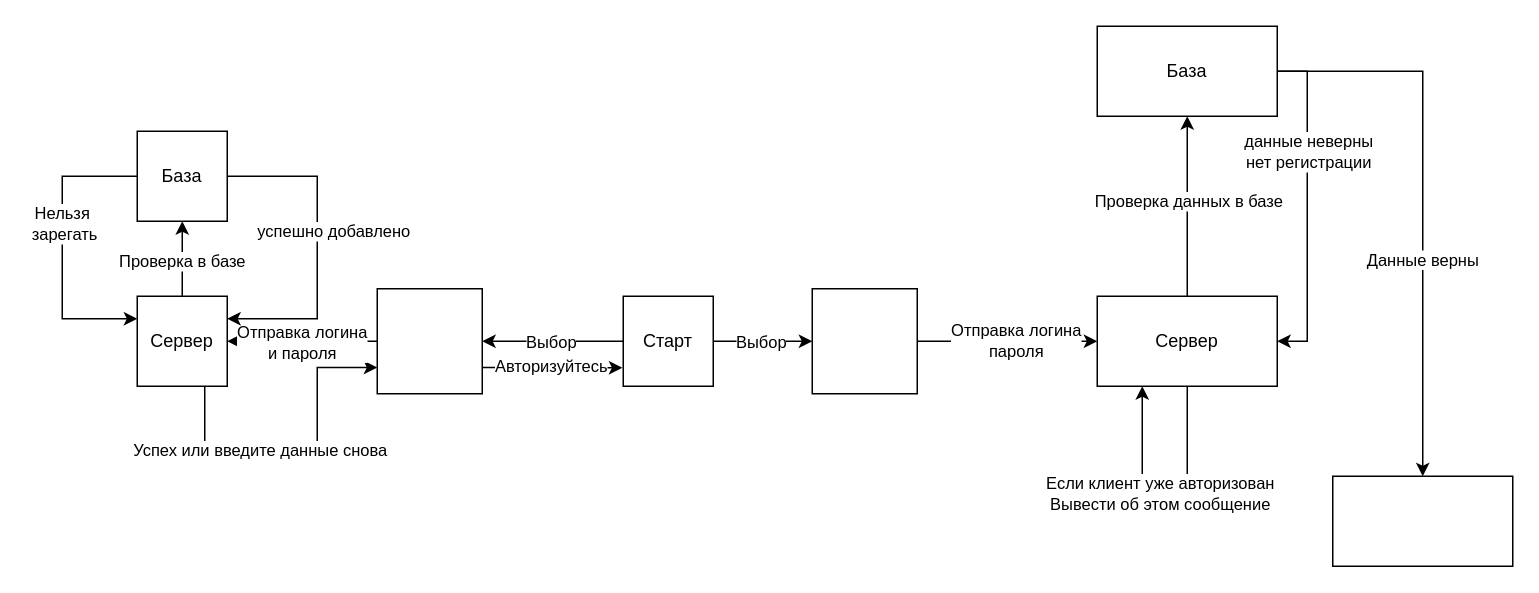
This 1539x593 diagram has some shape labels left out. The centre of each missing label's shape, as x and y in pixels:
Авторизация: the point at 864,340
Меню пользователя: the point at 1422,520
Регистрация: the point at 429,340
